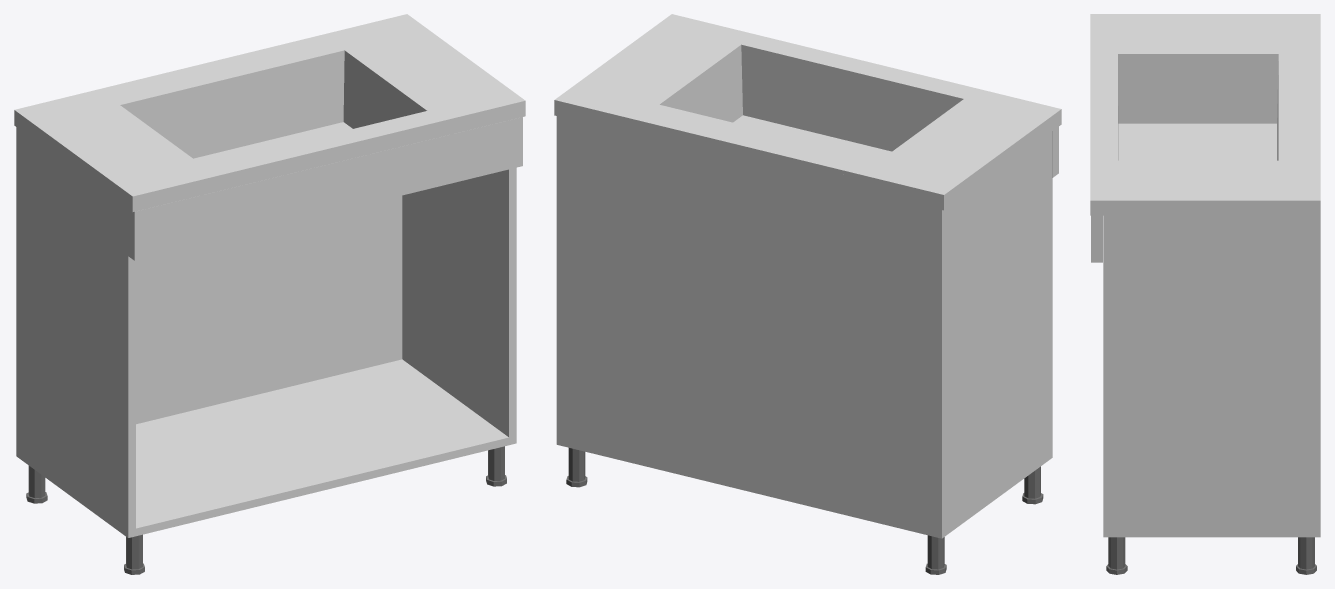
Rendered from Bathroom_C1_07.fbx.
The picture shows the model from 3 angles, left to right: view 1: azimuth 30°, elevation 25°; view 2: azimuth 150°, elevation 25°; view 3: azimuth 270°, elevation 25°; orthographic projection. The views are drawn at different scales.
Visible parts, largest first — view 1: Bathroom_C1_07; view 2: Bathroom_C1_07; view 3: Bathroom_C1_07.
Part boxes in pixels (box(x1,y1,x2,y2)): Bathroom_C1_07: box(14, 14, 525, 574); Bathroom_C1_07: box(554, 14, 1061, 574); Bathroom_C1_07: box(1090, 14, 1320, 574).
Size of the model in its own units: 91 by 85.82 by 47.51.
